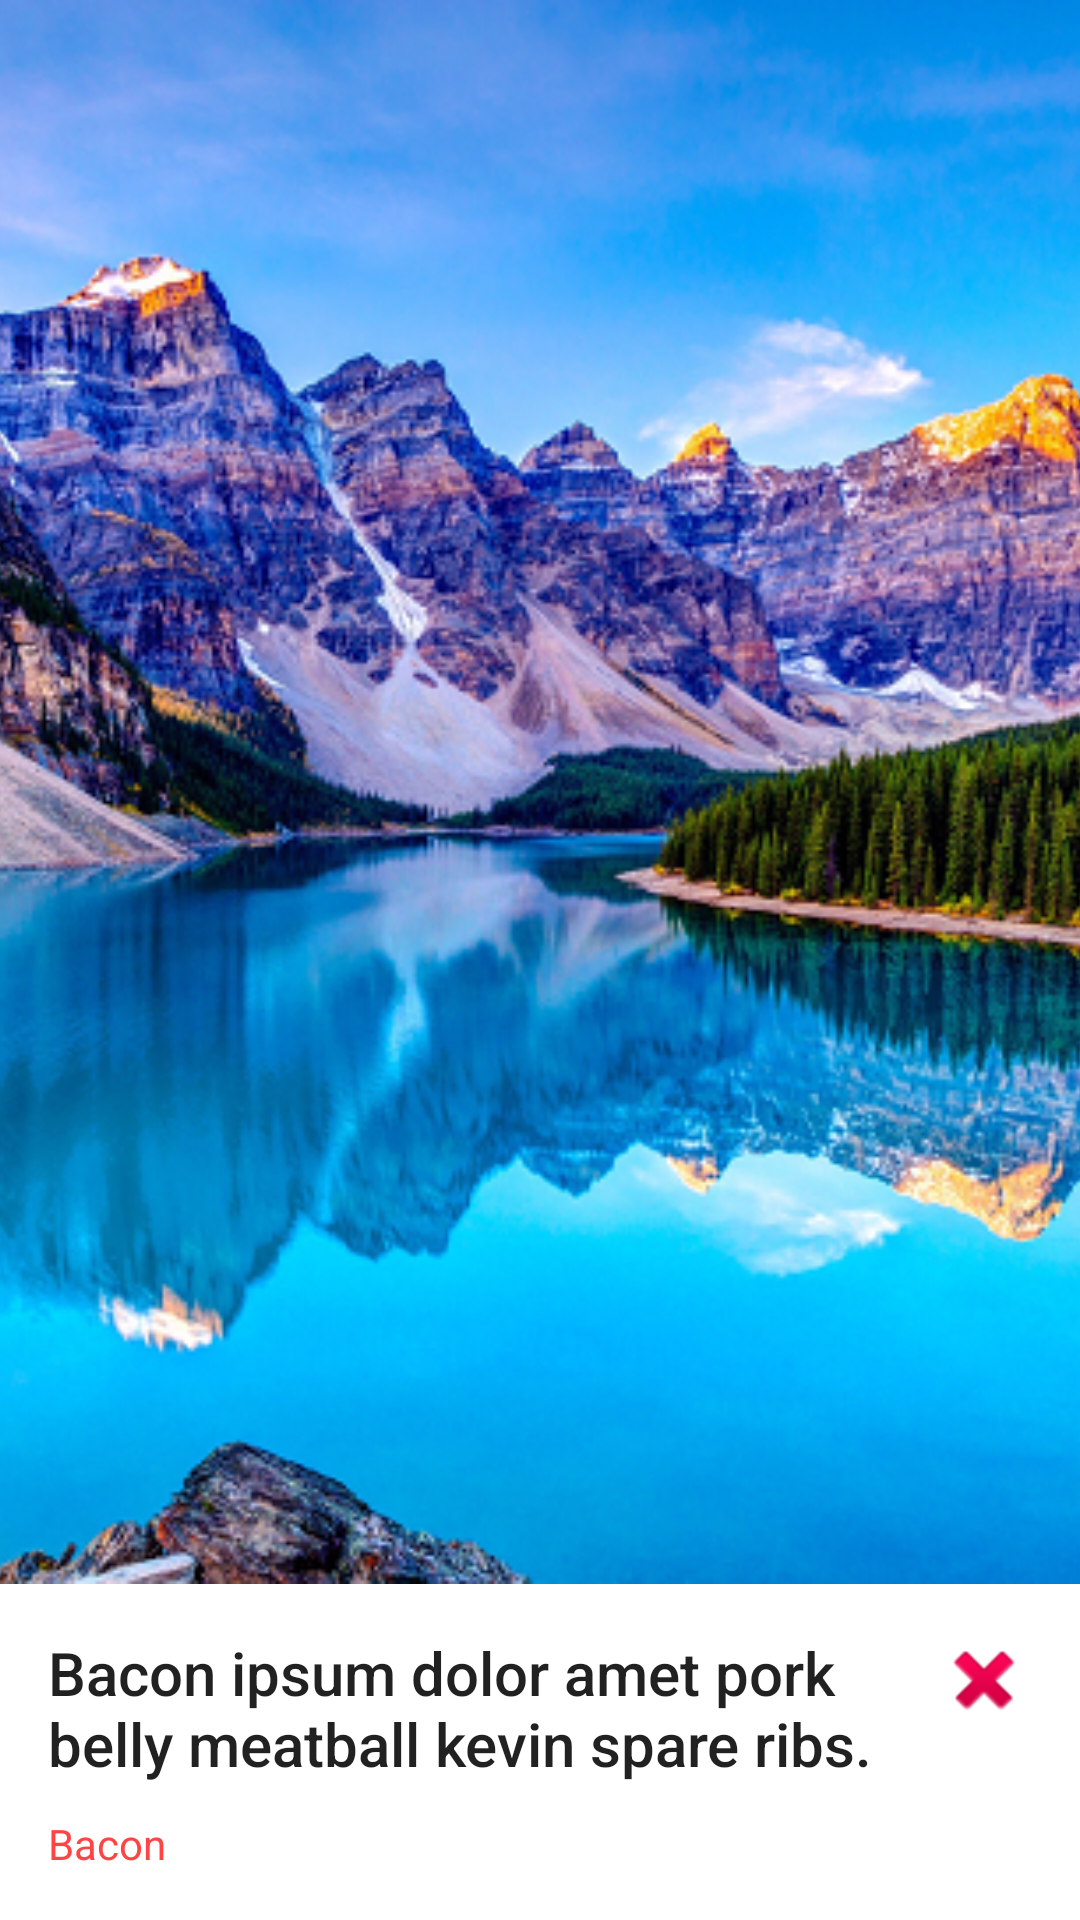

Point at icon controls on the screen. Image size 1080 x 1920, points as (x,y).
delete: (984,1680)
